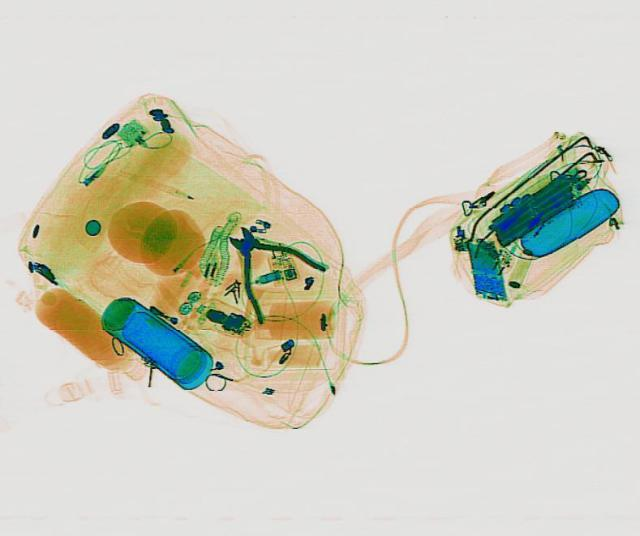Pliers: (187, 207, 339, 323)
